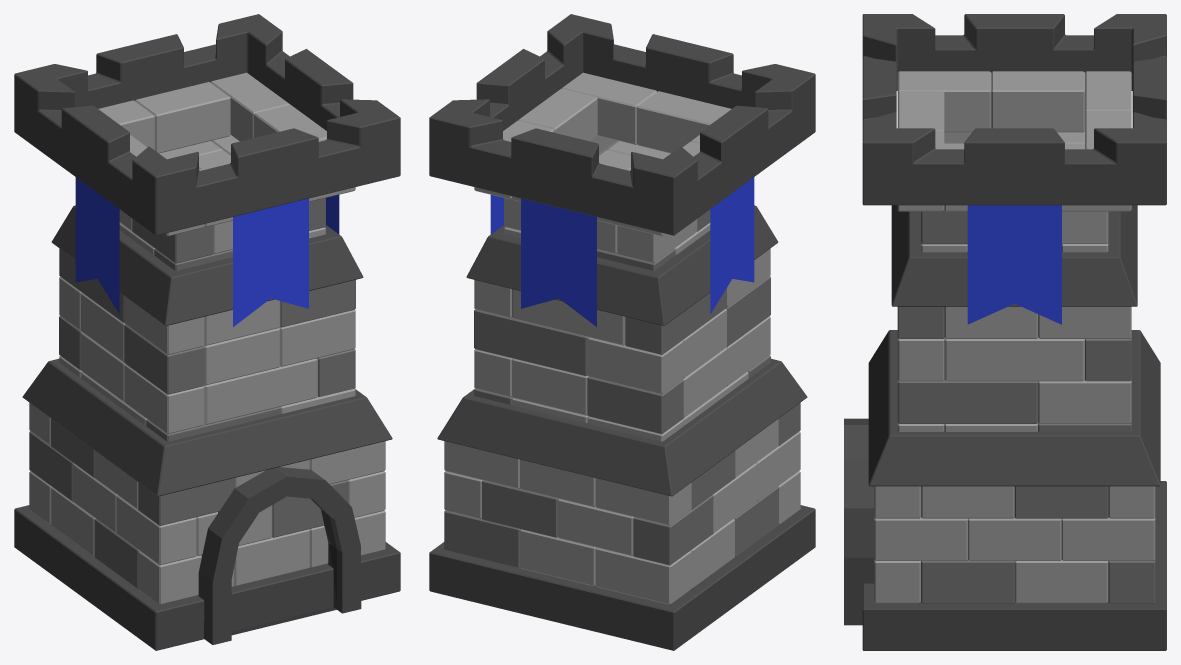
File: blue_tower.glb
3 views of the same model, side by side, from view 1: azimuth 30°, elevation 25°; view 2: azimuth 150°, elevation 25°; view 3: azimuth 270°, elevation 25° (orthographic). The views are drawn at different scales.
Parts seen in each view (by area): view 1: Cube.009, Cube.007, Cube.006, Cylinder.004, Cube.008, Plane.004, Plane.005, brick_mid.108, brick_mid.137, brick_dark.045, brick_mid.089, brick_mid.109 (+37 smaller); view 2: Cube.009, Cube.007, Cube.006, Cube.008, Plane.004, Plane.005, brick_dark.044, brick_dark.043, brick_mid.112, brick_mid.082, brick_mid.131, brick_dark.034 (+35 smaller); view 3: Cube.009, Cube.007, Cube.006, Cube.008, Plane.005, brick_dark.042, brick_mid.113, brick_mid.132, Cylinder.004, brick_mid.093, brick_mid.087, brick_mid.107 (+24 smaller).
Boxes of the visible parts, <box> form: Cube.009: <box>14,14,400,235</box>; Cube.007: <box>22,358,392,496</box>; Cube.006: <box>14,505,400,650</box>; Cylinder.004: <box>198,467,361,644</box>; Cube.008: <box>51,205,363,325</box>; Plane.004: <box>233,198,308,326</box>; Plane.005: <box>75,177,339,313</box>; brick_mid.108: <box>204,358,317,424</box>; brick_mid.137: <box>135,82,230,153</box>; brick_dark.045: <box>124,324,204,394</box>; brick_mid.089: <box>116,495,196,565</box>; brick_mid.109: <box>124,364,204,433</box>; Cube.009: <box>429,14,815,235</box>; Cube.007: <box>437,358,807,496</box>; Cube.006: <box>429,505,815,650</box>; Cube.008: <box>466,205,778,325</box>; Plane.004: <box>521,198,596,326</box>; Plane.005: <box>490,177,754,313</box>; brick_dark.044: <box>474,309,588,376</box>; brick_dark.043: <box>587,376,683,434</box>; brick_mid.112: <box>587,337,683,394</box>; brick_mid.082: <box>595,547,691,604</box>; brick_mid.131: <box>637,91,731,153</box>; brick_dark.034: <box>633,495,713,565</box>; Cube.009: <box>862,14,1166,205</box>; Cube.007: <box>868,330,1160,486</box>; Cube.006: <box>862,481,1166,650</box>; Cube.008: <box>891,205,1137,306</box>; Plane.005: <box>967,205,1061,324</box>; brick_dark.042: <box>897,380,1037,423</box>; brick_mid.113: <box>944,337,1084,381</box>; brick_mid.132: <box>991,71,1084,132</box>; Cylinder.004: <box>844,418,874,625</box>; brick_mid.093: <box>1061,517,1155,560</box>; brick_mid.087: <box>1014,560,1108,603</box>; brick_mid.107: <box>1038,380,1131,423</box>.
Size of the model in its own units: 2.6 by 4.8 by 2.76.
